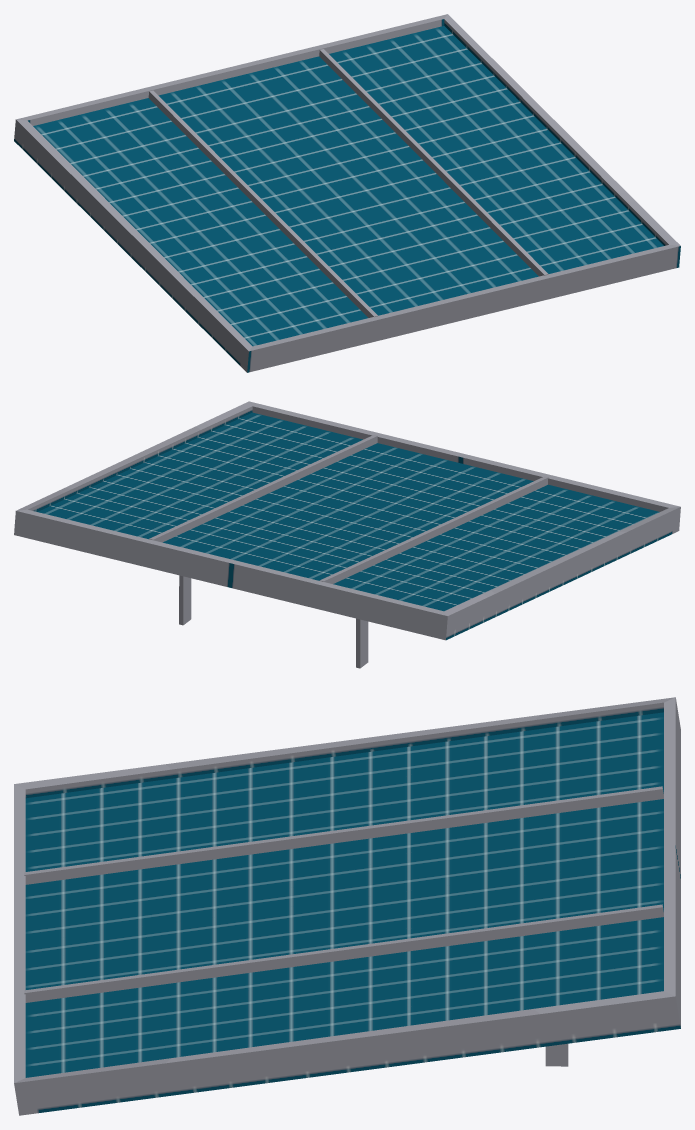
Rendered from solarPanel.fbx.
3 views of the same model, one above another, from view 1: azimuth 30°, elevation 25°; view 2: azimuth 150°, elevation 25°; view 3: azimuth 270°, elevation 25° (orthographic). The views are drawn at different scales.
Visible parts, largest first — view 1: solarPanel.001; view 2: solarPanel.001; view 3: solarPanel.001.
Boxes of the visible parts, <box> form: solarPanel.001: <box>14,14,680,372</box>; solarPanel.001: <box>14,401,680,668</box>; solarPanel.001: <box>14,697,680,1115</box>.
Size of the model in its own units: 171 by 42.27 by 161.
Materials: 1 (1 with a texture image).
